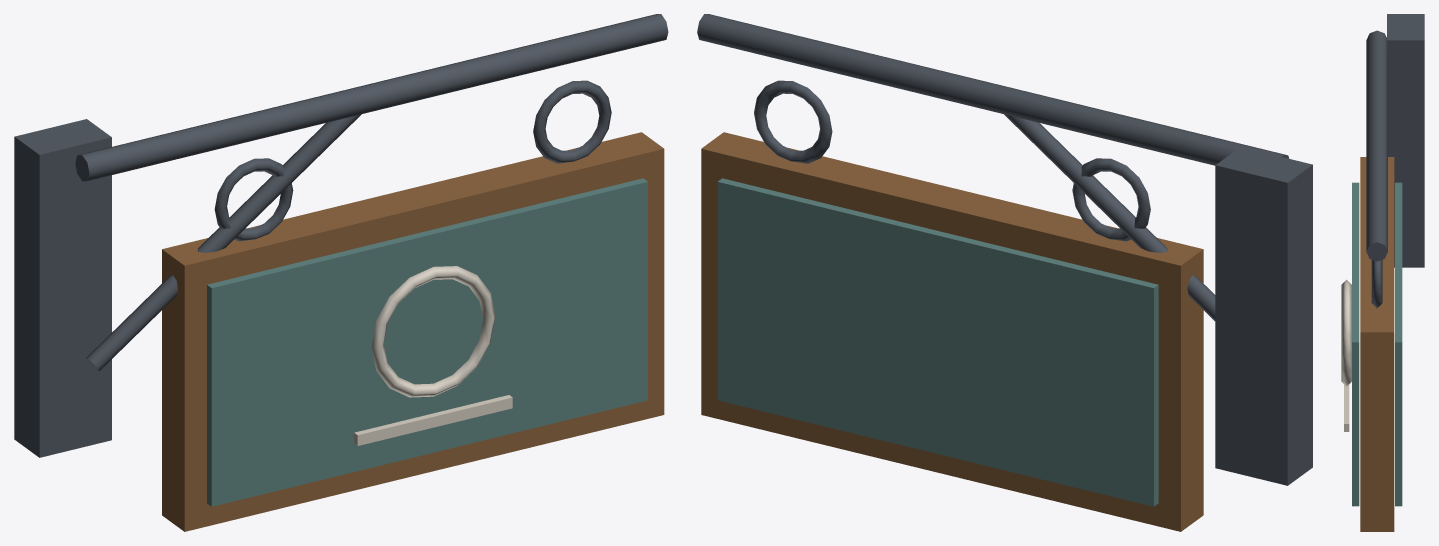
Rendered from komachi-hanging-sign.glb.
3 renders of one model, left to right at view 1: azimuth 30°, elevation 25°; view 2: azimuth 150°, elevation 25°; view 3: azimuth 270°, elevation 25°, orthographic. The views are drawn at different scales.
Visible parts, largest first — view 1: Hanging_Sign; view 2: Hanging_Sign; view 3: Hanging_Sign.
Part boxes in pixels (left/top/right/bottom): Hanging_Sign: left=14, top=14, right=668, bottom=531; Hanging_Sign: left=697, top=14, right=1312, bottom=531; Hanging_Sign: left=1341, top=14, right=1424, bottom=531.
Size of the model in its own units: 0.2975 by 0.1825 by 0.0465.
